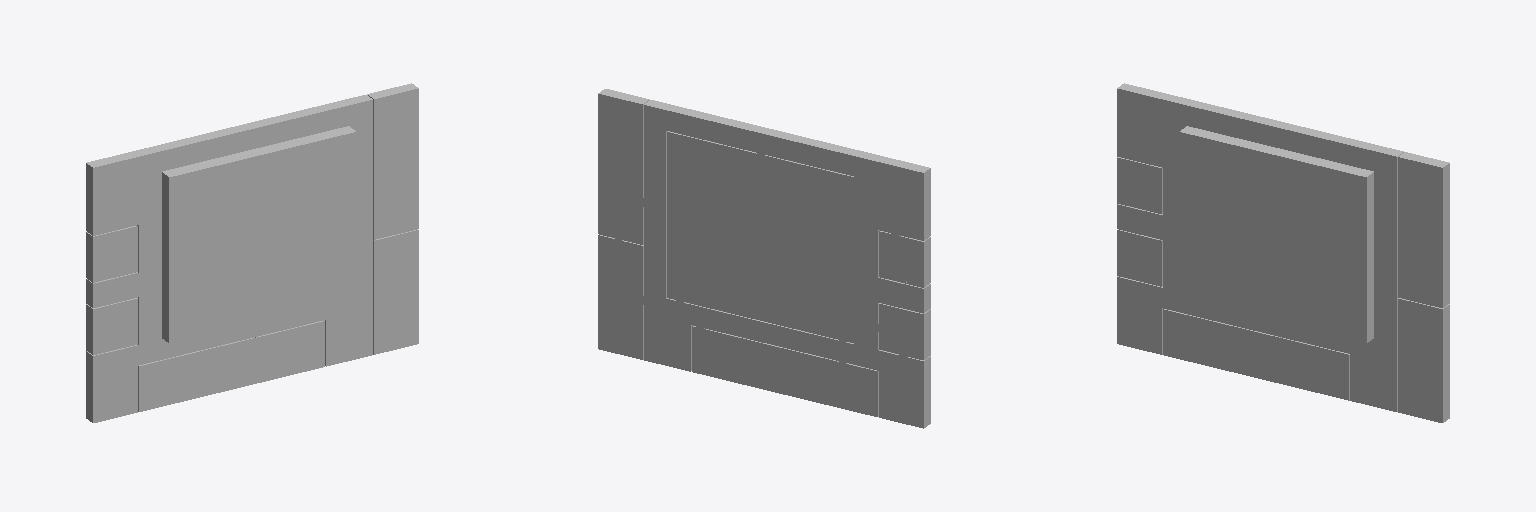
The model's file is world_interactive.obj.
The picture shows the model from 3 angles: view 1: azimuth 30°, elevation 25°; view 2: azimuth 150°, elevation 25°; view 3: azimuth 330°, elevation 25°; orthographic projection.
Parts seen in each view (by area): view 1: Museum_Cube.009_RoomsCeiling_NONE, Museum_Cube.009_RoomsWall, Museum_Cube.009_CorridoorCeiling, Museum_Cube.009_CorridoorWall; view 2: Museum_Cube.009_RoomsFloor, Museum_Cube.009_CorridoorFloor, Museum_Cube.009_CorridoorWall, Museum_Cube.009_RoomsWall; view 3: Museum_Cube.009_RoomsCeiling_NONE, Museum_Cube.009_RoomsWall, Museum_Cube.009_CorridoorCeiling, Museum_Cube.009_CorridoorWall.
Part boxes in pixels (left/top/right/bottom): Museum_Cube.009_RoomsCeiling_NONE: left=169, top=132, right=356, bottom=343; Museum_Cube.009_RoomsWall: left=86, top=83, right=418, bottom=411; Museum_Cube.009_CorridoorCeiling: left=93, top=100, right=372, bottom=422; Museum_Cube.009_CorridoorWall: left=86, top=95, right=372, bottom=422; Museum_Cube.009_RoomsFloor: left=598, top=94, right=923, bottom=416; Museum_Cube.009_CorridoorFloor: left=644, top=105, right=923, bottom=428; Museum_Cube.009_CorridoorWall: left=644, top=100, right=930, bottom=427; Museum_Cube.009_RoomsWall: left=598, top=89, right=930, bottom=416; Museum_Cube.009_RoomsCeiling_NONE: left=1179, top=132, right=1366, bottom=343; Museum_Cube.009_RoomsWall: left=1117, top=126, right=1449, bottom=422; Museum_Cube.009_CorridoorCeiling: left=1117, top=89, right=1396, bottom=411; Museum_Cube.009_CorridoorWall: left=1117, top=83, right=1403, bottom=411.
Bounding box in the file's own units: 80 × 60 × 6.